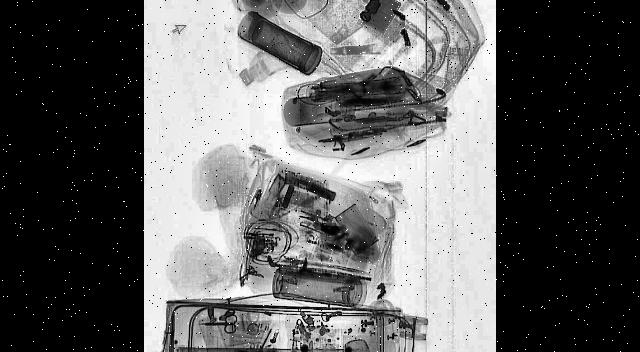Scissors: (200, 311, 238, 332)
